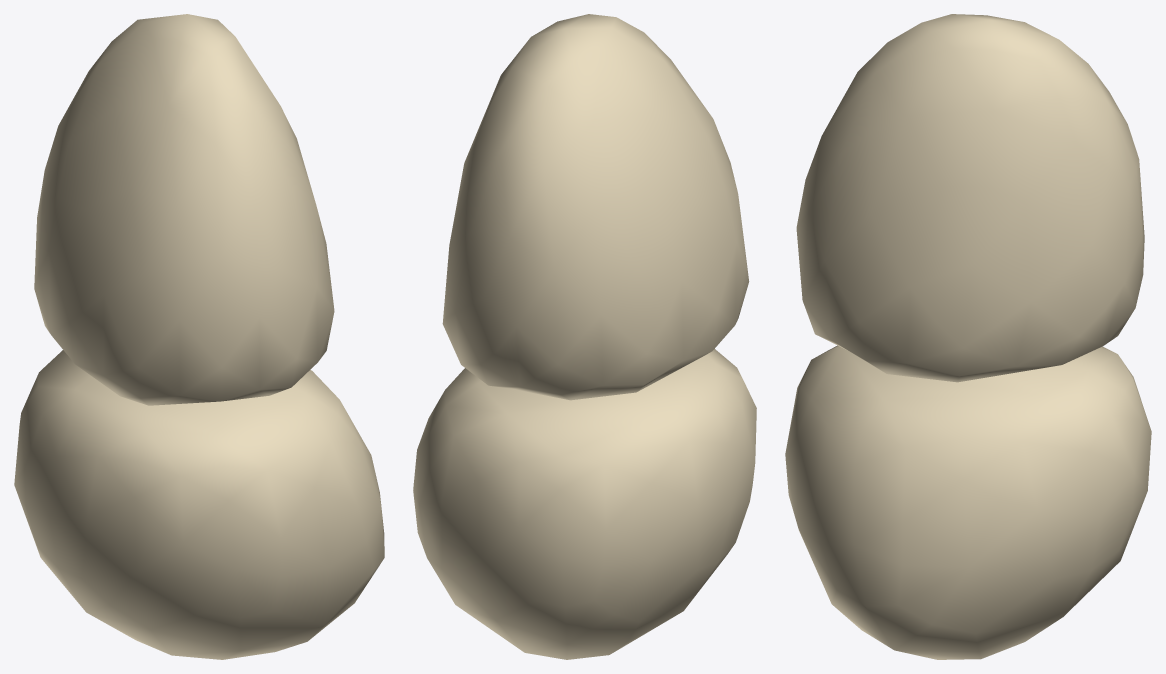
File: esqueleto-anterior-cells-of-ethmoid-bone-l.glb
3 renders of one model, left to right at view 1: azimuth 30°, elevation 25°; view 2: azimuth 150°, elevation 25°; view 3: azimuth 270°, elevation 25°, orthographic.
Visible parts, largest first — view 1: Anterior cells of ethmoid bone.l; view 2: Anterior cells of ethmoid bone.l; view 3: Anterior cells of ethmoid bone.l.
Boxes of the visible parts, box(x1,y1,x2,y2) form: Anterior cells of ethmoid bone.l: box(14, 14, 384, 659); Anterior cells of ethmoid bone.l: box(413, 14, 756, 659); Anterior cells of ethmoid bone.l: box(785, 14, 1151, 659).
Size of the model in its own units: 0.00719 by 0.0142 by 0.00766.
